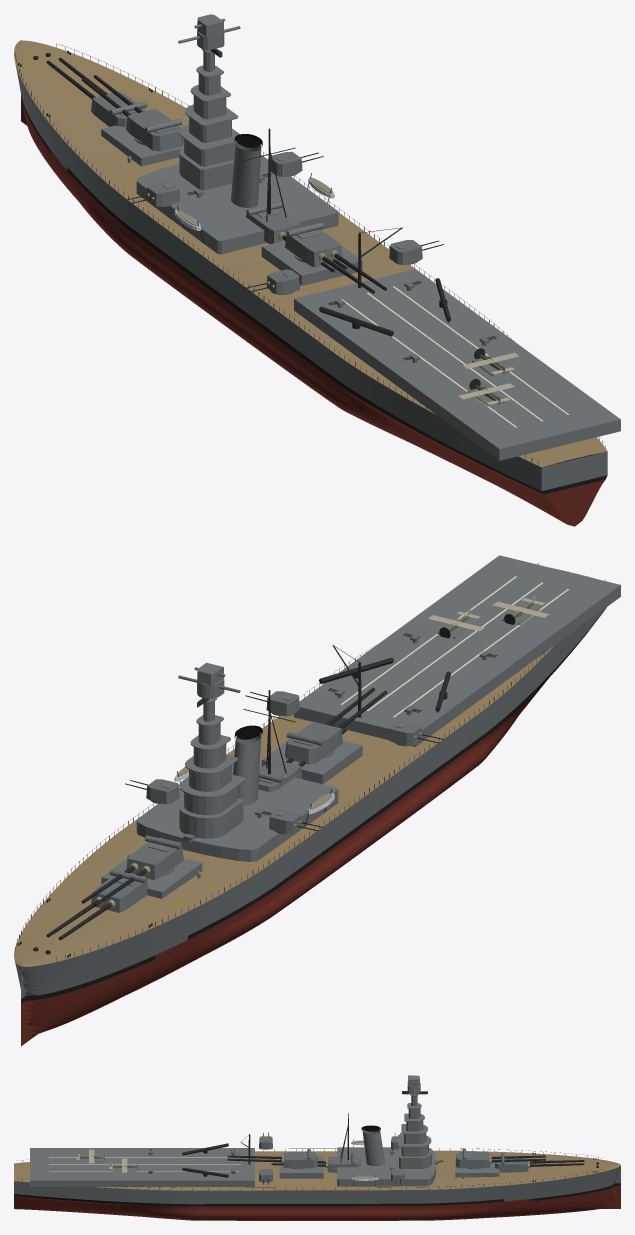
Rendered from ise.glb.
The picture shows the model from 3 angles, top to bottom: view 1: azimuth 30°, elevation 25°; view 2: azimuth 150°, elevation 25°; view 3: azimuth 270°, elevation 25°; orthographic projection. The views are drawn at different scales.
Parts seen in each view (by area): view 1: Hull, Turret2, Turret4, Turret1, Turret3, Mount4, Mount2, Mount3, Mount1; view 2: Hull, Turret4, Turret2, Turret1, Turret3, Mount4, Mount1, Mount2, Mount3; view 3: Hull, Turret4, Turret2, Turret1, Turret3.
Boxes of the visible parts, bbox=[...] form: Hull: bbox=[14, 26, 620, 526]; Turret2: bbox=[81, 75, 183, 151]; Turret4: bbox=[285, 222, 386, 293]; Turret1: bbox=[46, 57, 147, 126]; Turret3: bbox=[246, 201, 346, 272]; Mount4: bbox=[245, 269, 299, 294]; Mount2: bbox=[125, 181, 179, 206]; Mount3: bbox=[389, 240, 443, 264]; Mount1: bbox=[270, 151, 323, 176]; Hull: bbox=[14, 555, 620, 1046]; Turret4: bbox=[285, 687, 387, 764]; Turret2: bbox=[81, 835, 183, 906]; Turret1: bbox=[46, 869, 147, 940]; Turret3: bbox=[258, 725, 346, 791]; Mount4: bbox=[389, 720, 443, 746]; Mount1: bbox=[125, 779, 179, 804]; Mount2: bbox=[269, 808, 323, 834]; Mount3: bbox=[245, 691, 299, 716]; Hull: bbox=[14, 1082, 620, 1220]; Turret4: bbox=[227, 1148, 317, 1169]; Turret2: bbox=[456, 1148, 545, 1169]; Turret1: bbox=[495, 1153, 584, 1172]; Turret3: bbox=[271, 1153, 360, 1172].
Bounding box in the file's own units: 44.6 × 52.77 × 221.
